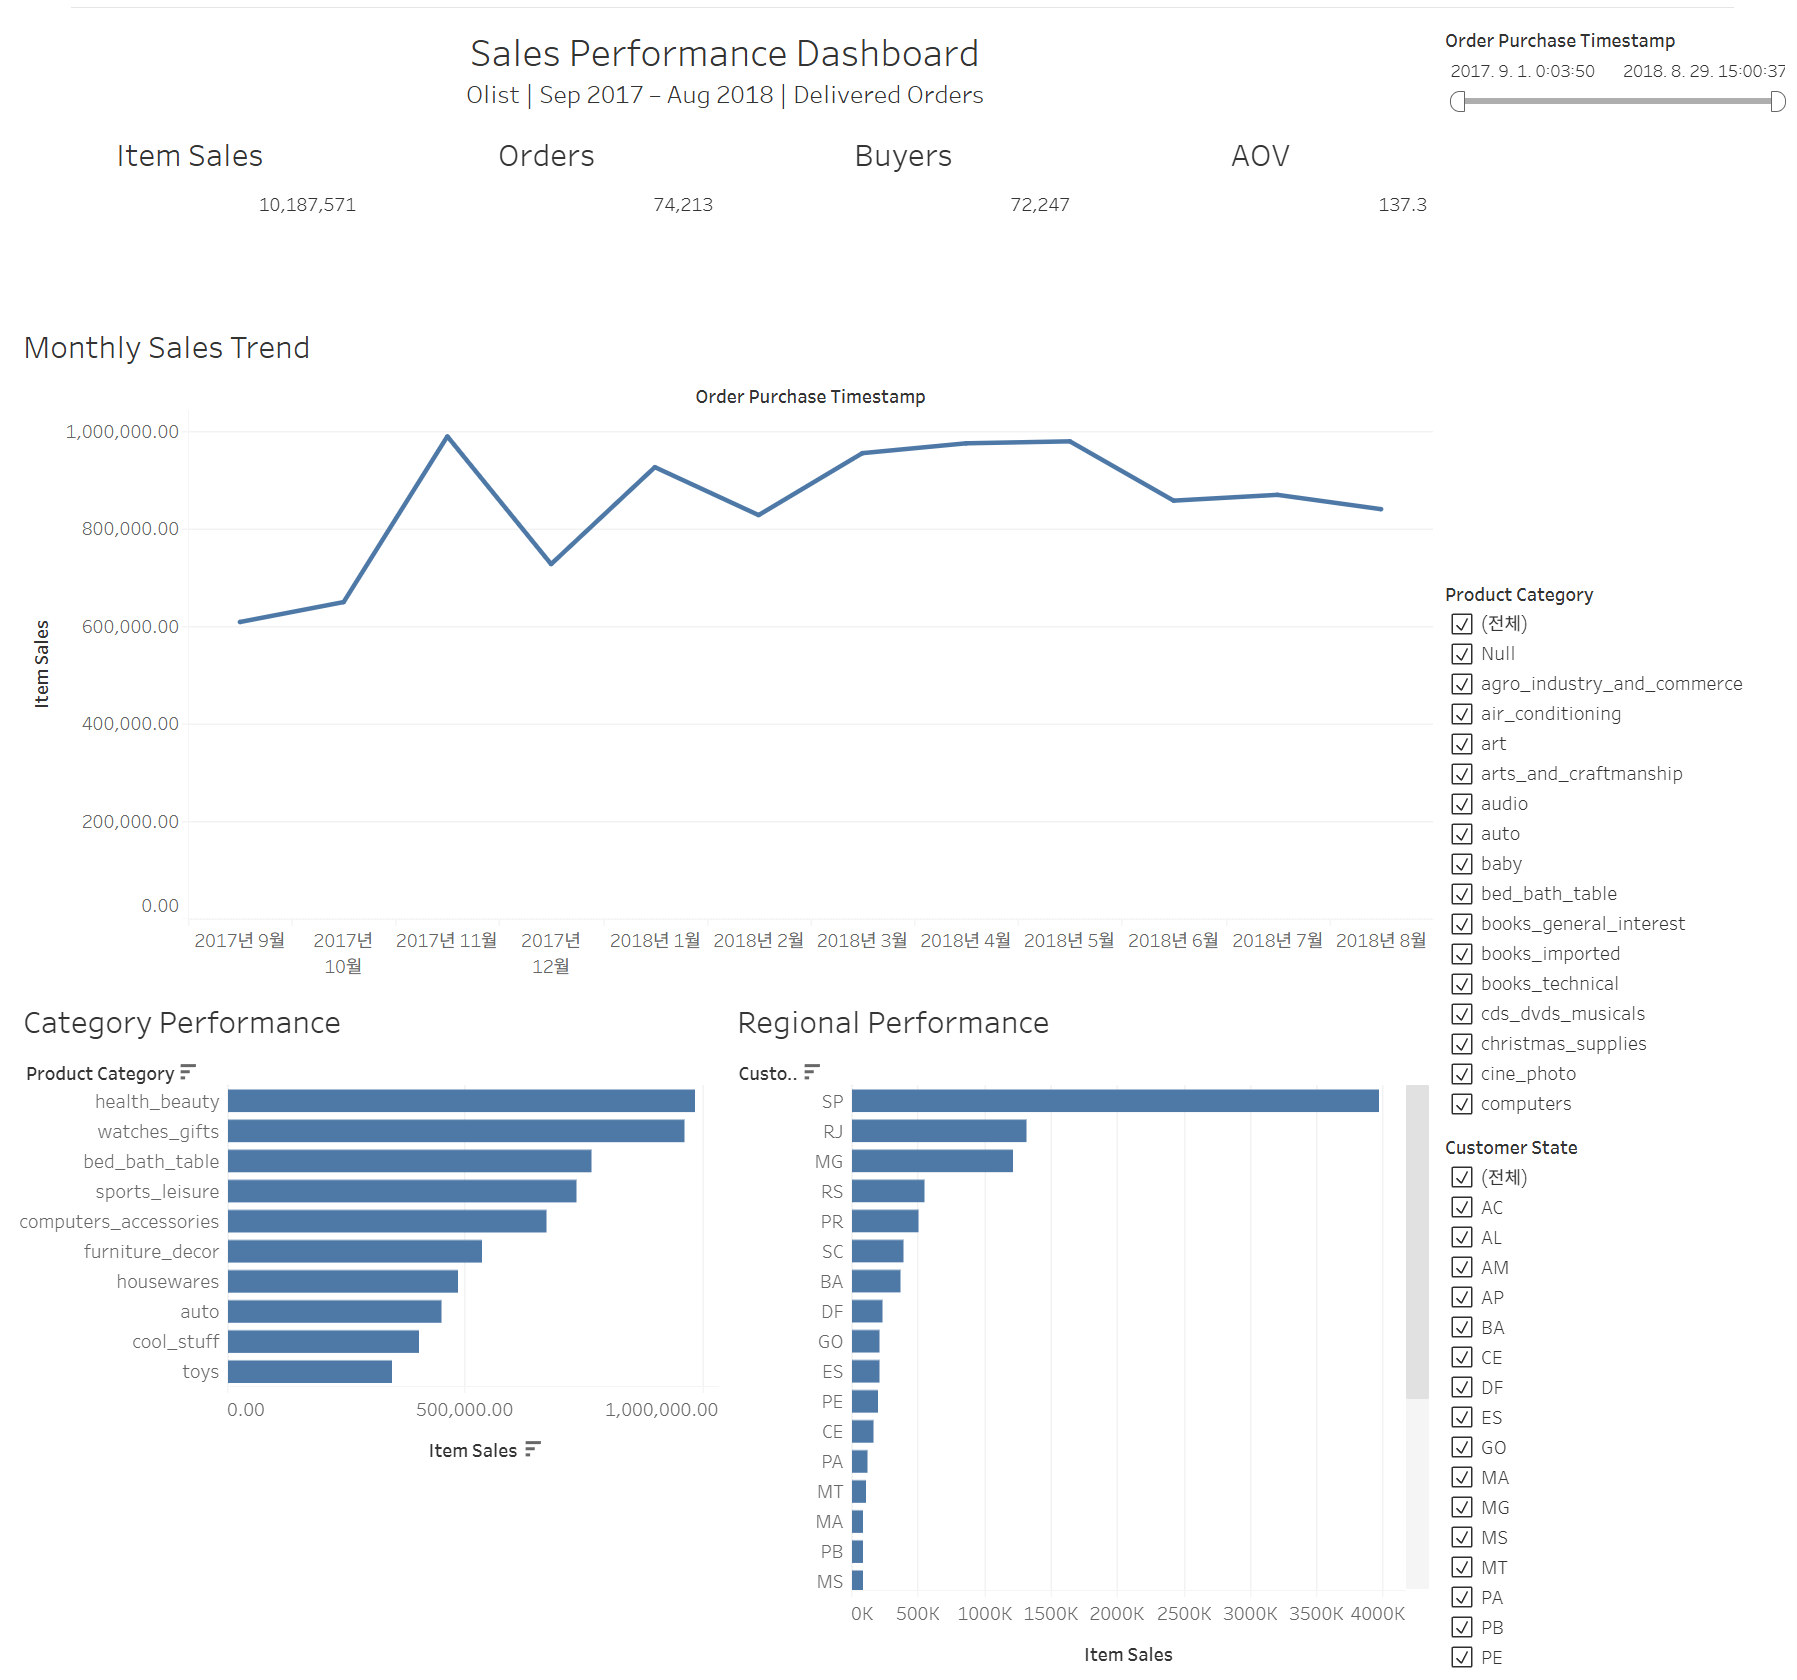

The dashboard page shown, as its layout file describes it:
{"tool":"tableau","page":{"name":"Sales Performance Dashboard","canvas":[1000,1000],"units":"permille","ordinal":0},"visuals":[{"type":"title","box":[3.1,5.5,795.8,63.4]},{"type":"filter","title":"Category Performance","param":"[federated.056uakg0urgz9v12jyz9b0azap5j].[none:order_purchase_timestamp:qk]","box":[798.8,5.5,198.1,329.9]},{"type":"worksheet","title":"Item Sales","mark":"Automatic","box":[3.1,68.9,198.9,108.8]},{"type":"worksheet","title":"Orders","mark":"Automatic","box":[202,68.9,198.9,108.8]},{"type":"worksheet","title":"Buyers","mark":"Automatic","box":[400.9,68.9,198.9,108.8]},{"type":"worksheet","title":"AOV","mark":"Automatic","box":[599.8,68.9,198.9,108.8]},{"type":"worksheet","title":"Monthly Sales Trend","mark":"Line","rows":["item_price"],"cols":["order_purchase_timestamp"],"box":[3.1,177.7,795.8,402.2]},{"type":"filter","title":"Category Performance","param":"[federated.056uakg0urgz9v12jyz9b0azap5j].[none:product_category:nk]","box":[798.8,335.4,198.1,329.9]},{"type":"worksheet","title":"Category Performance","mark":"Bar","rows":["product_category"],"cols":["item_price"],"box":[3.1,579.9,397.8,414.6]},{"type":"worksheet","title":"Regional Performance","mark":"Bar","rows":["customer_state"],"cols":["item_price"],"box":[400.9,579.9,397.8,414.6]},{"type":"filter","title":"Category Performance","param":"[federated.056uakg0urgz9v12jyz9b0azap5j].[none:customer_state:nk]","box":[798.8,665.3,198.1,329.2]}]}

Visuals, with their boxes on the dashboard's canvas, which has no fixed pixel size, in thousandths of its width and height (x1, y1, x2, y2). These are canvas units, not pixel positions in the 1797x1680 screenshot, which may show the page scaled, cropped or inside an application window:
title: box(3, 6, 799, 69)
"Category Performance" filter: box(799, 6, 997, 335)
"Item Sales" worksheet: box(3, 69, 202, 178)
"Orders" worksheet: box(202, 69, 401, 178)
"Buyers" worksheet: box(401, 69, 600, 178)
"AOV" worksheet: box(600, 69, 799, 178)
"Monthly Sales Trend" worksheet (Line marks): box(3, 178, 799, 580)
"Category Performance" filter: box(799, 335, 997, 665)
"Category Performance" worksheet (Bar marks): box(3, 580, 401, 994)
"Regional Performance" worksheet (Bar marks): box(401, 580, 799, 994)
"Category Performance" filter: box(799, 665, 997, 994)
